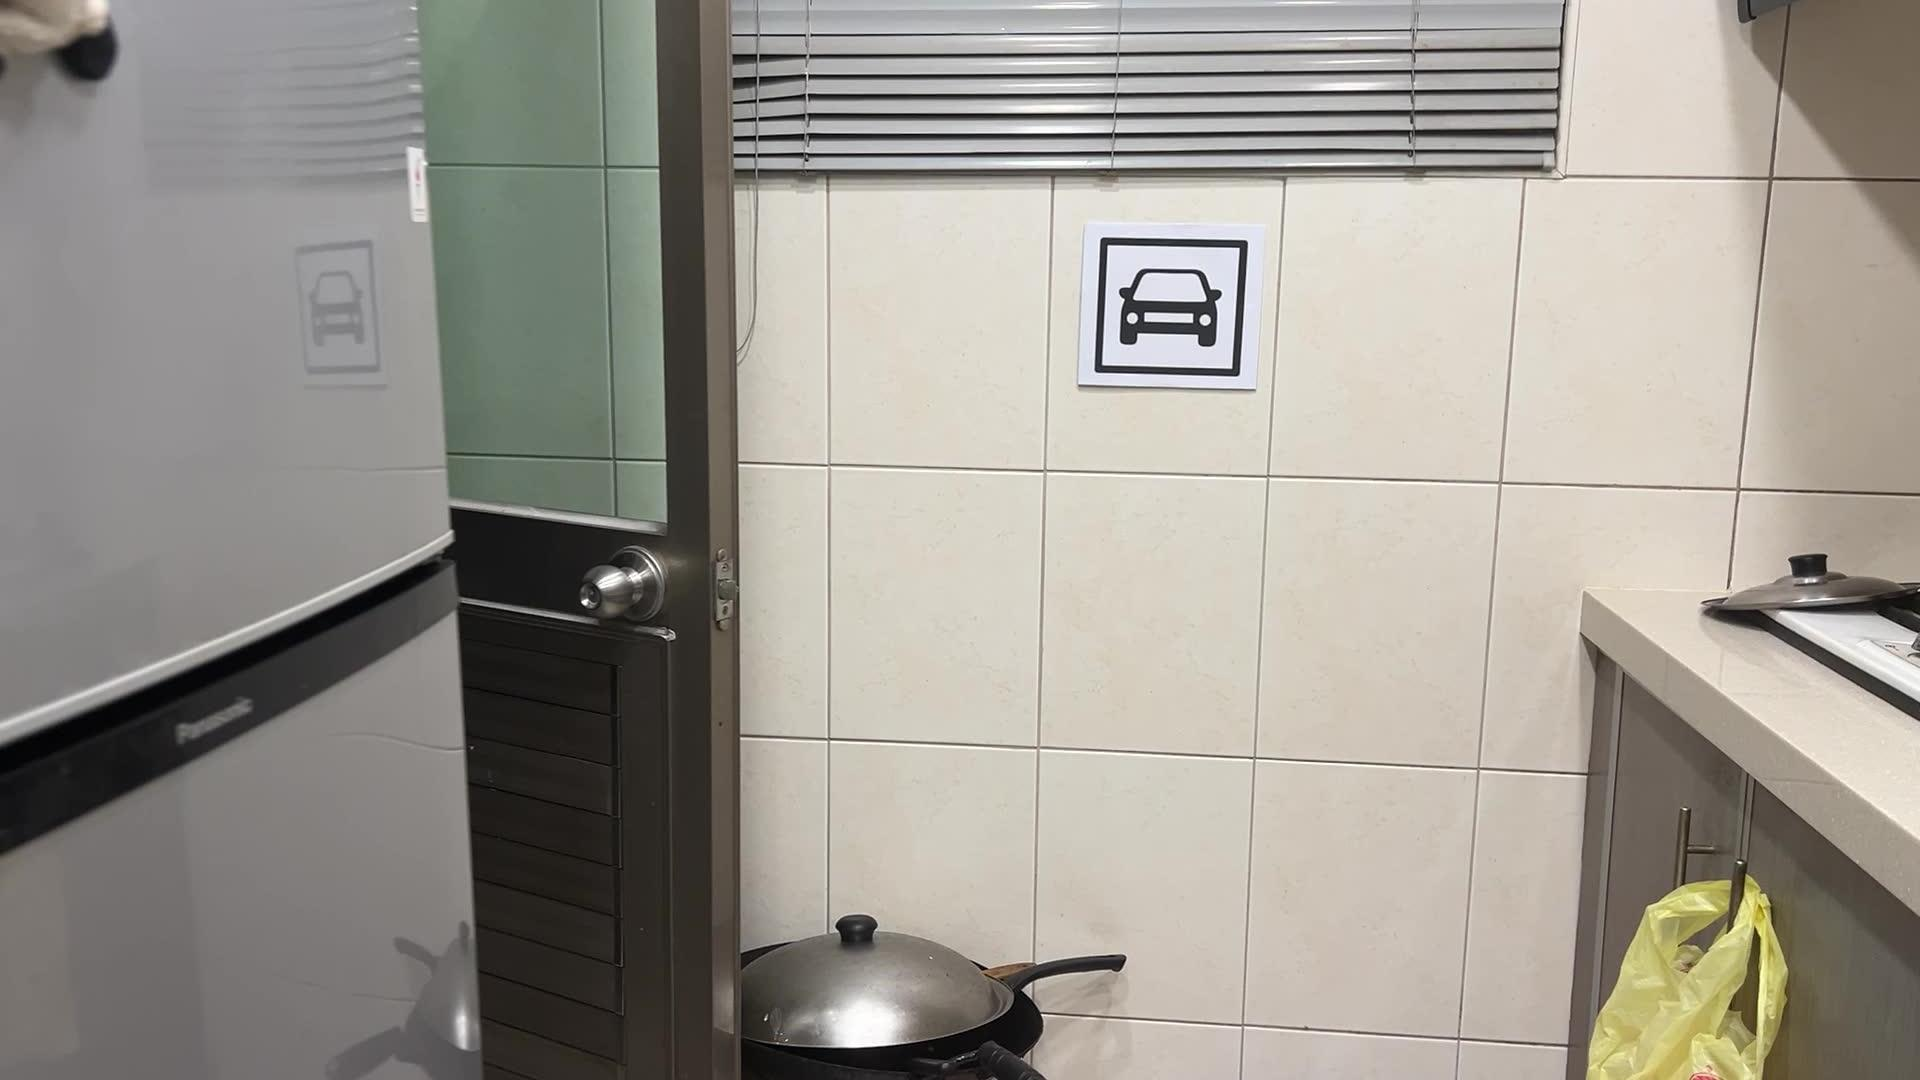car_img: (1092, 232, 1250, 378)
